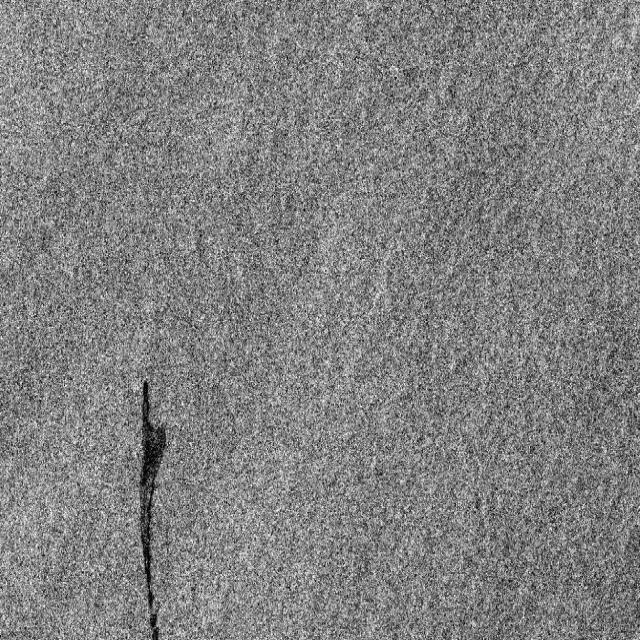oil-spill: (135, 378, 170, 640)
